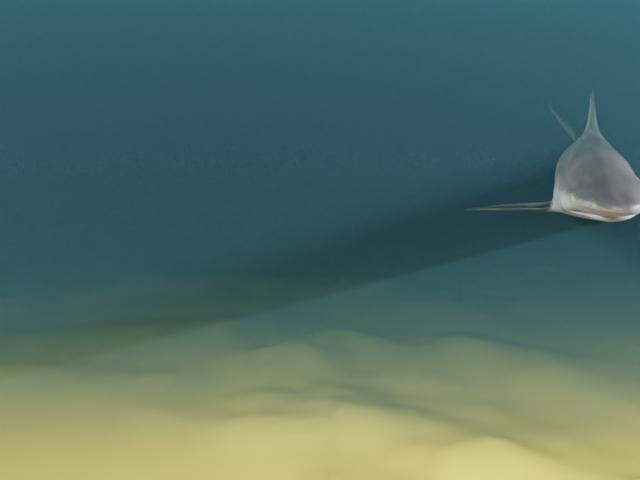Carribean Shark.001: (464, 88, 640, 221)
